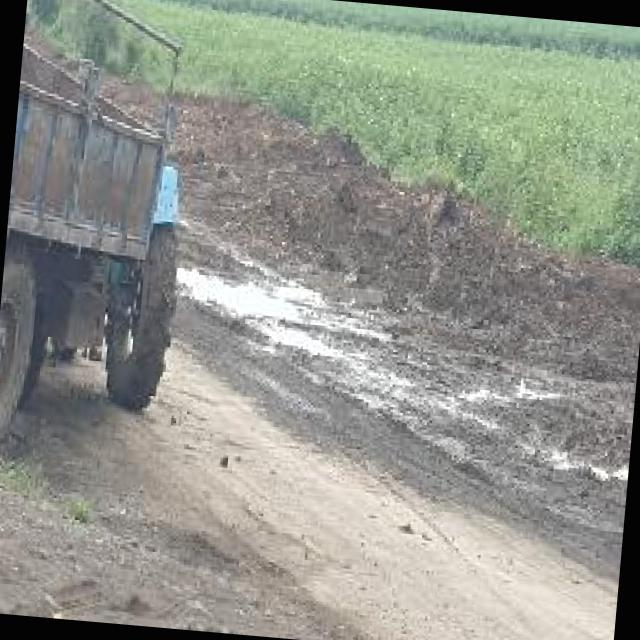stagnation: (180, 251, 460, 466)
